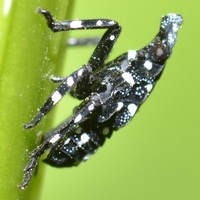insect: (19, 9, 181, 188)
